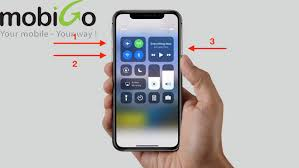iphone: (110, 6, 183, 151)
iphone10: (110, 7, 183, 152)
